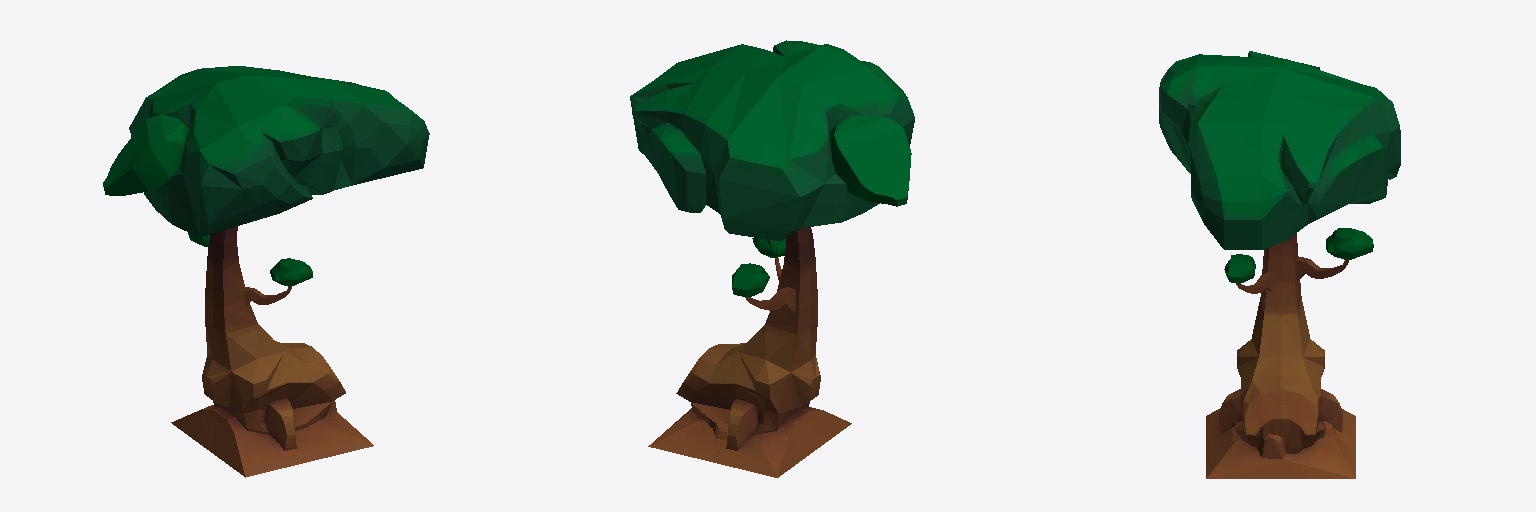
The picture shows the model from 3 angles: view 1: azimuth 30°, elevation 25°; view 2: azimuth 150°, elevation 25°; view 3: azimuth 270°, elevation 25°; orthographic projection.
Parts seen in each view (by area): view 1: FOL_Foliage_01; view 2: FOL_Foliage_01; view 3: FOL_Foliage_01.
Part boxes in pixels (left/top/right/bottom): FOL_Foliage_01: left=103, top=66, right=429, bottom=477; FOL_Foliage_01: left=630, top=40, right=914, bottom=477; FOL_Foliage_01: left=1159, top=51, right=1400, bottom=478.
Bounding box in the file's own units: 2.7 × 3.26 × 1.95.
Materials: 1 (1 with a texture image).